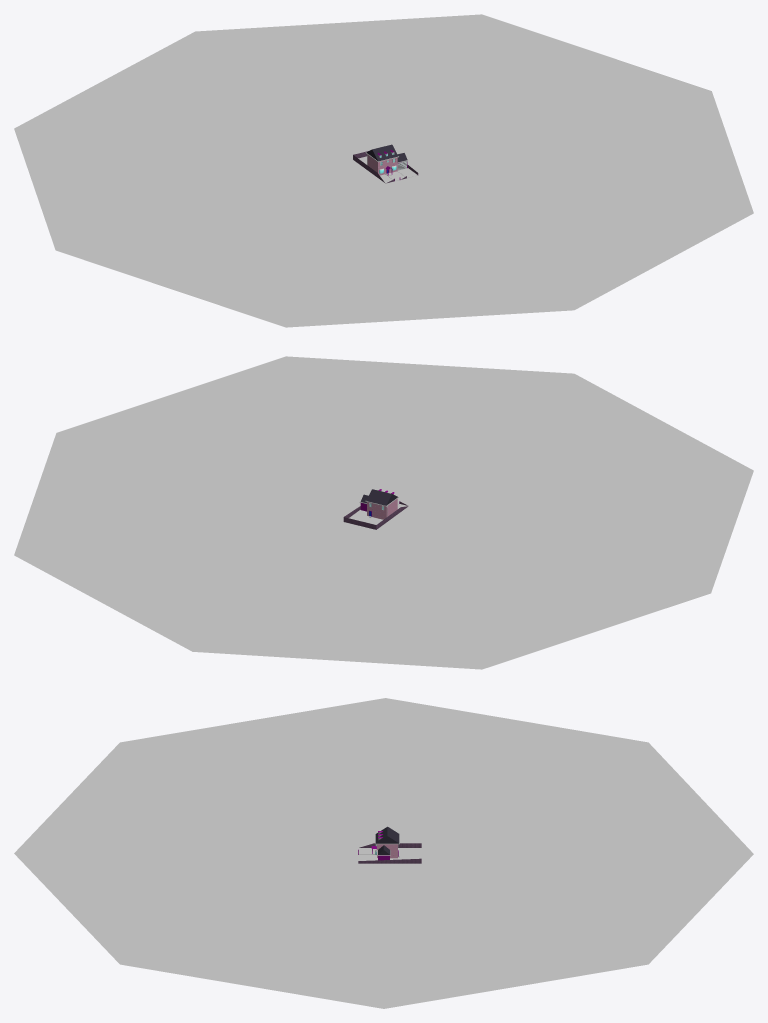
Rendered from ENVO_House02.obj.
3 renders of one model, top to bottom at view 1: azimuth 30°, elevation 25°; view 2: azimuth 150°, elevation 25°; view 3: azimuth 270°, elevation 25°, orthographic. The views are drawn at different scales.
Parts seen in each view (by area): view 1: House02; view 2: House02; view 3: House02.
Part boxes in pixels (left/top/right/bottom): House02: left=14, top=14, right=753, bottom=327; House02: left=14, top=356, right=753, bottom=669; House02: left=14, top=698, right=753, bottom=1008.
Size of what is drawn, in the model's own units: 28000 by 920 by 28157.
Materials: 25 (14 with a texture image).
